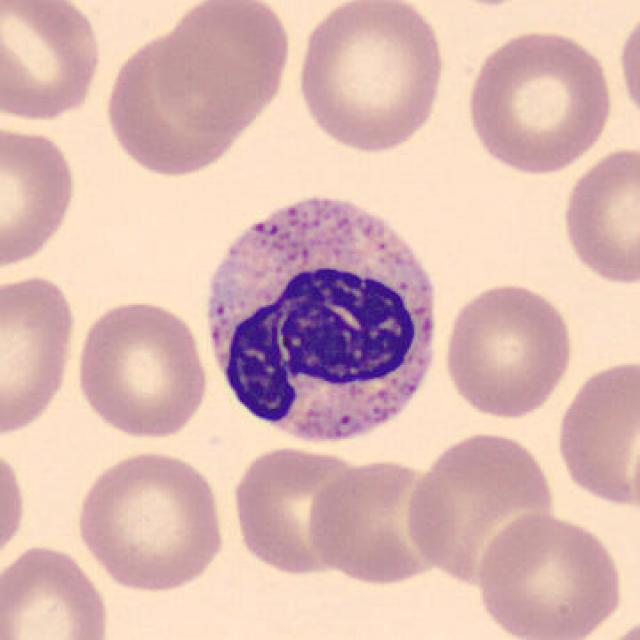Neutrophil: (196, 182, 448, 462)
RBC: (402, 427, 560, 587), (292, 0, 449, 155), (460, 25, 617, 176), (101, 23, 251, 180), (71, 446, 228, 594), (471, 508, 628, 640), (302, 455, 457, 587), (71, 296, 212, 441), (439, 278, 578, 422), (151, 0, 293, 134), (228, 443, 366, 580), (0, 268, 78, 441), (553, 354, 638, 512), (0, 0, 107, 125), (0, 118, 80, 273), (556, 141, 638, 287), (0, 539, 114, 640), (0, 439, 30, 571), (615, 5, 640, 130), (588, 612, 640, 640)
